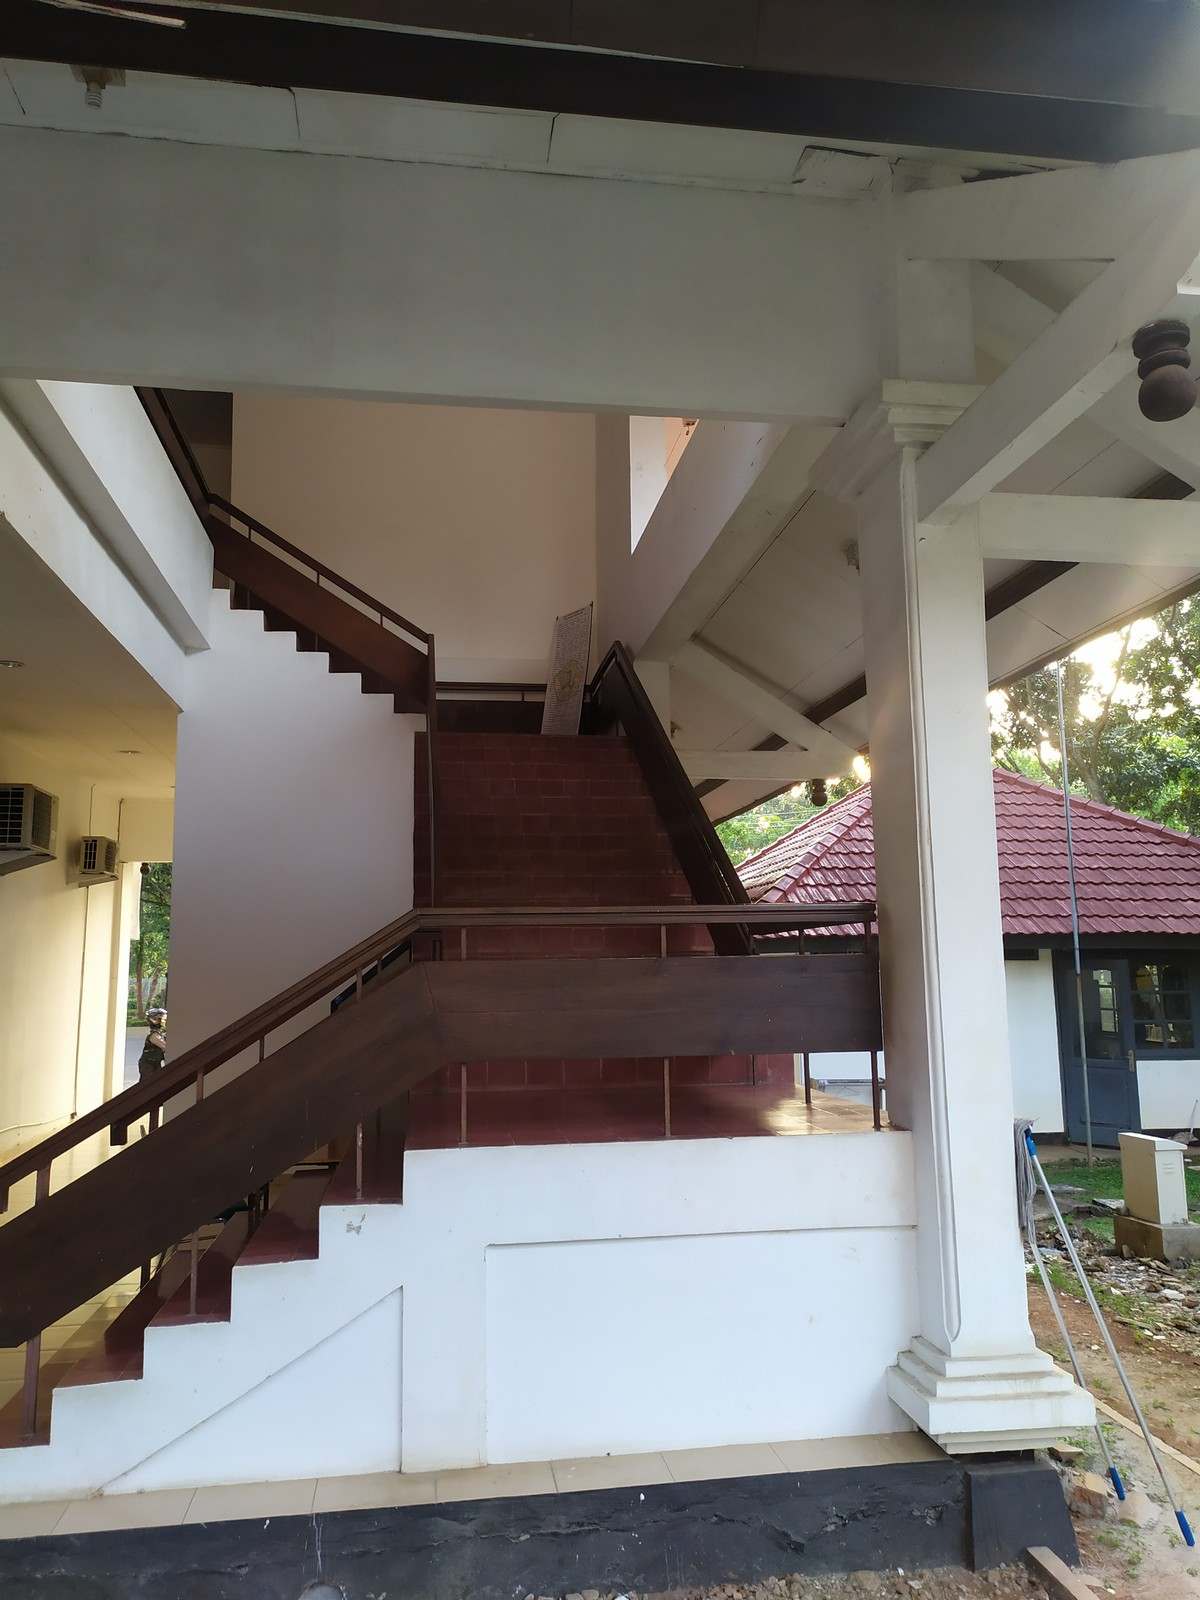concrete beam: (945, 483, 1200, 578), (663, 741, 816, 789)
concrete column: (848, 484, 1049, 1372)
